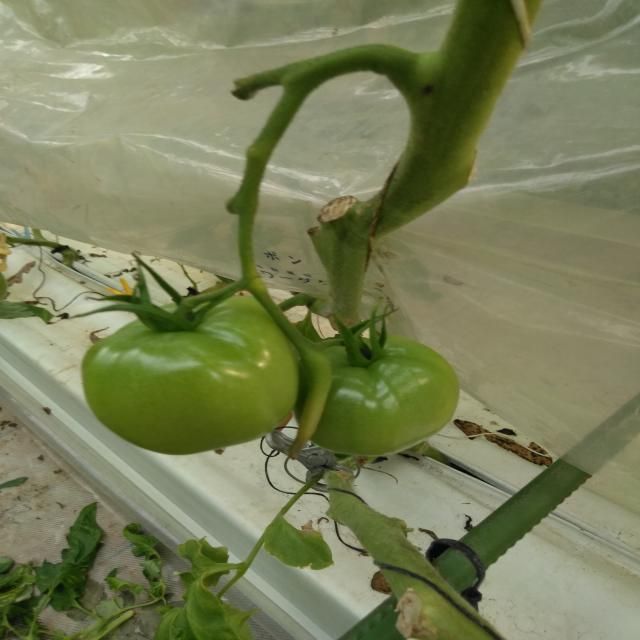yesil: (78, 272, 299, 458), (320, 329, 457, 463)
